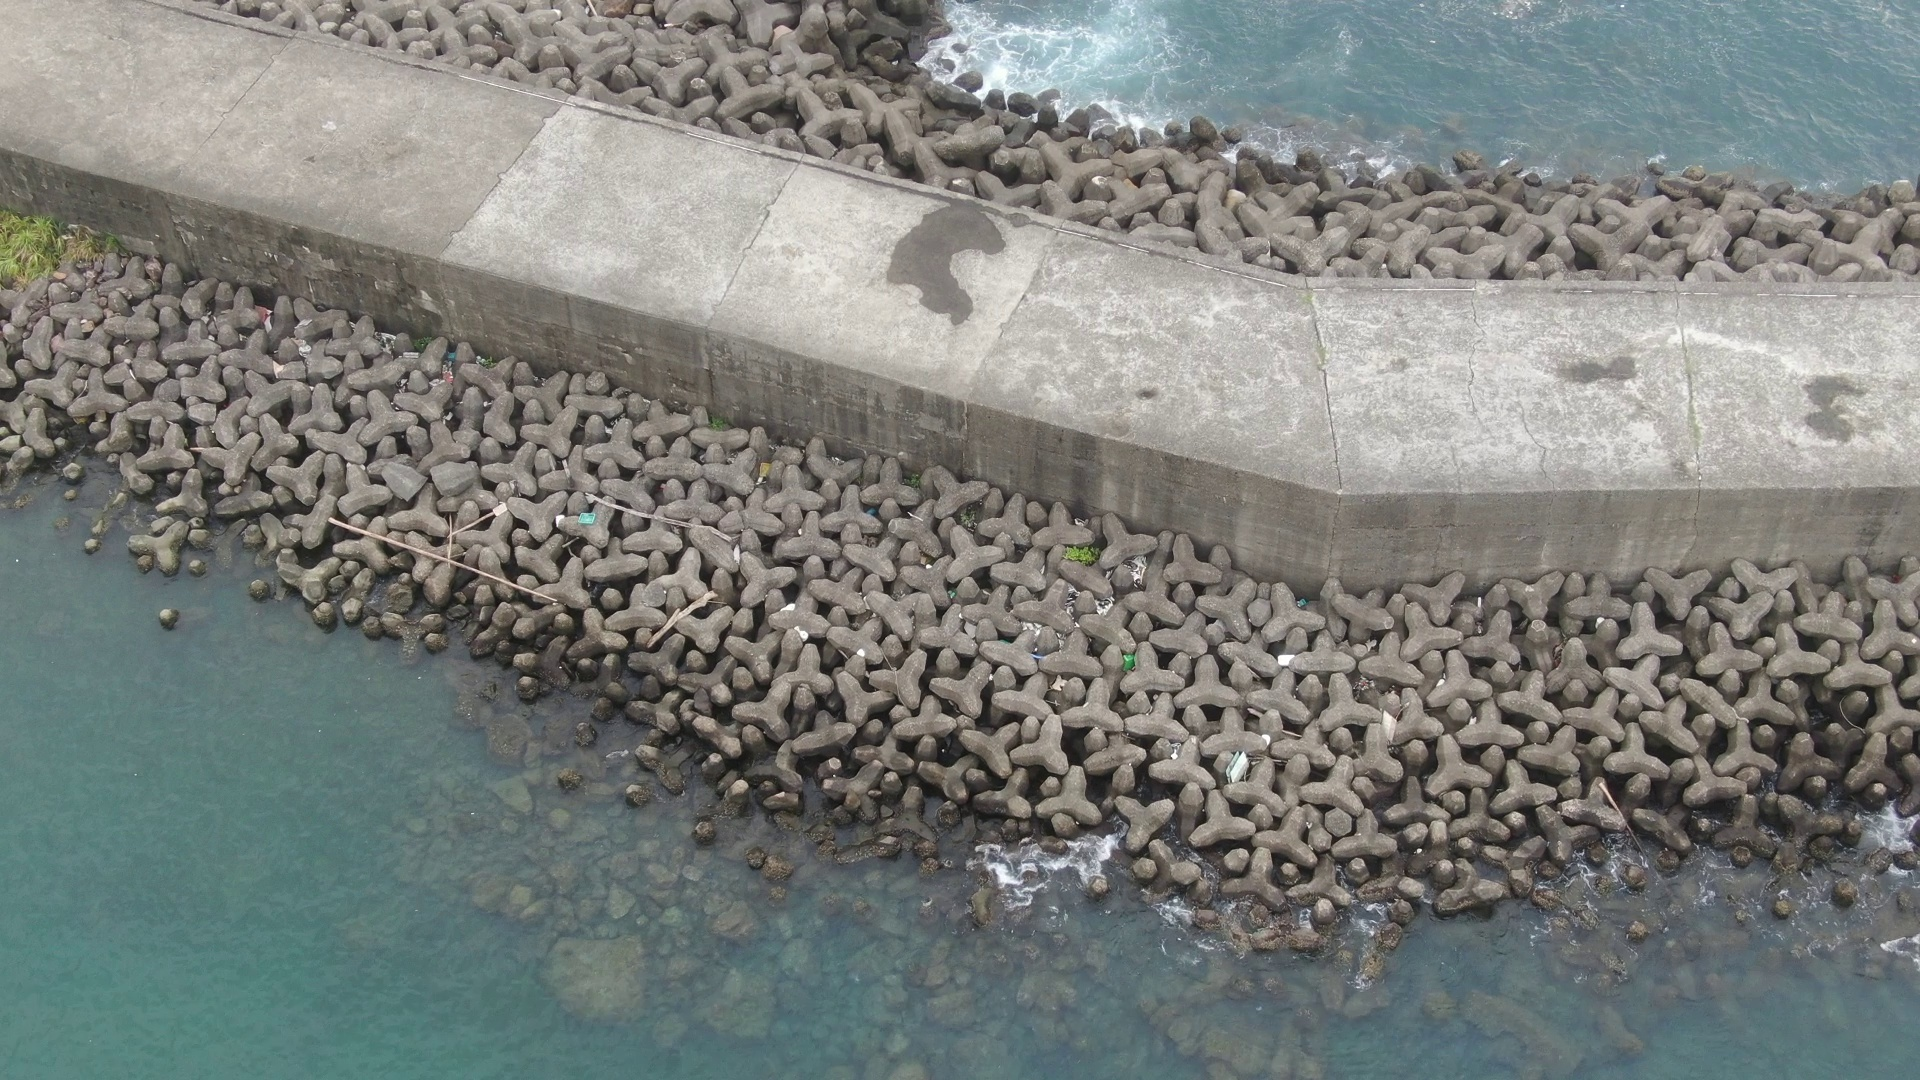garbage: (1218, 738, 1261, 793), (1121, 646, 1147, 683), (572, 505, 607, 533)
